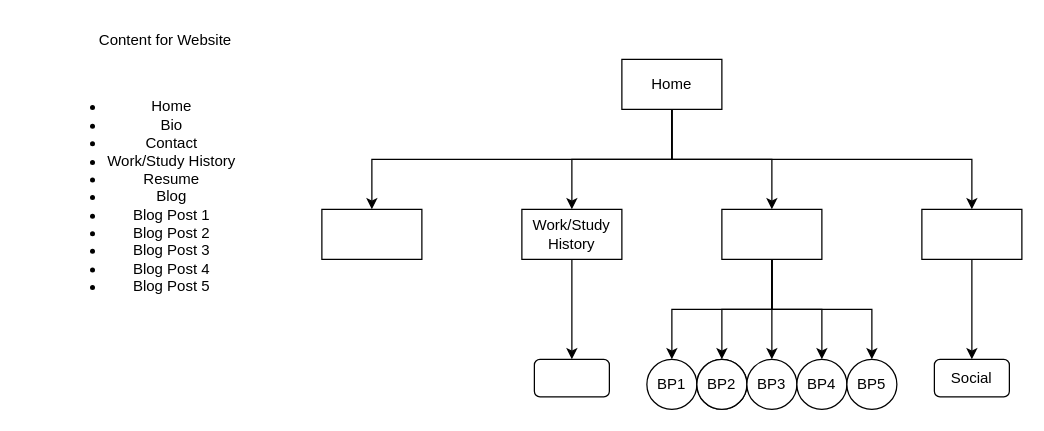
Some shapes in this 1044 by 431 pixel diagram are drawn without their labels. The box of each missing label's shape, as (x1, y1, x2, y2) in pixels:
Bio: (321, 208, 422, 259)
Blog: (721, 208, 822, 259)
Contact: (921, 208, 1022, 259)
Resume: (533, 358, 609, 397)
